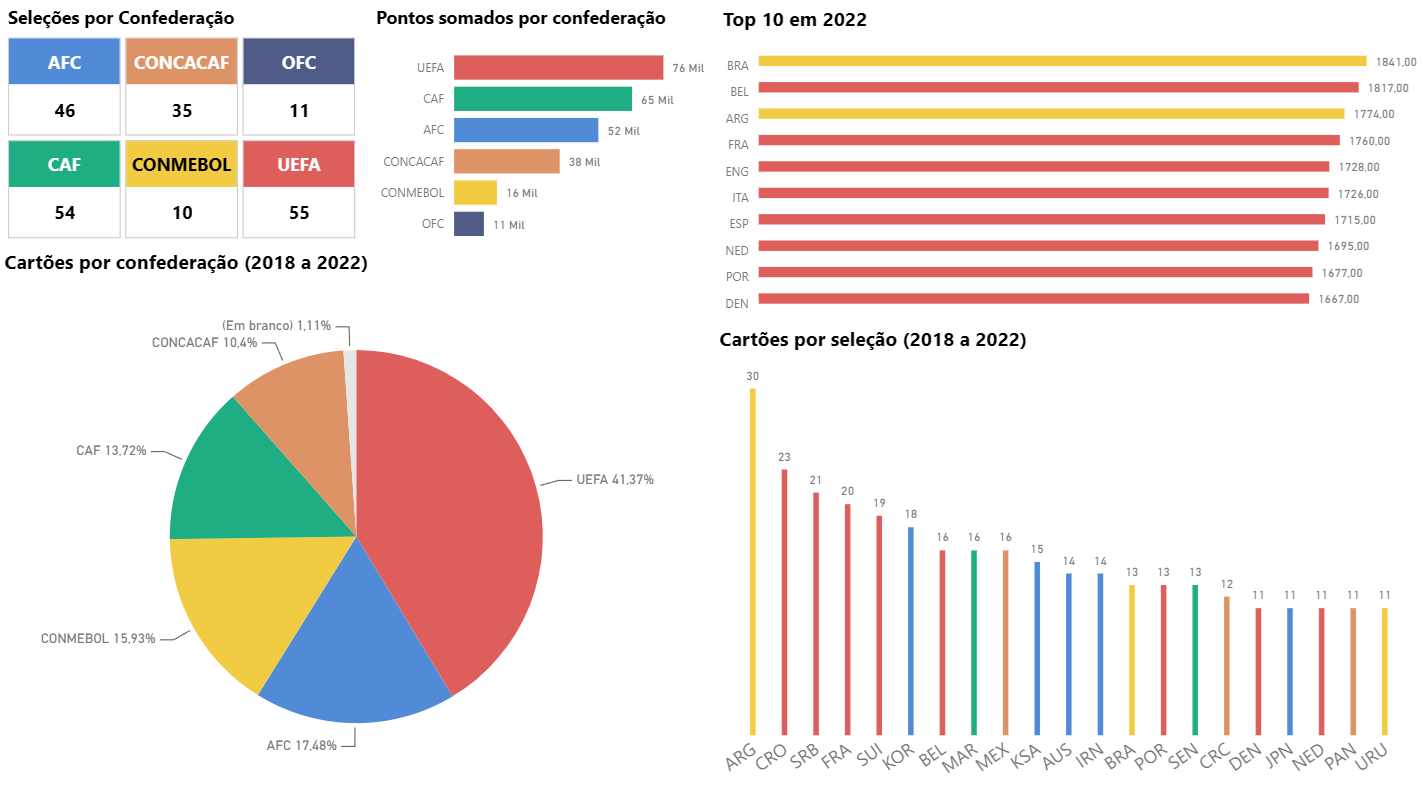

The dashboard page shown, as its layout file describes it:
{"tool":"powerbi","page":{"name":"Cartões x Confederações","canvas":[1280,720],"ordinal":2},"visuals":[{"type":"pieChart","title":"Cartões por confederação (2018 a 2022)","fields":{"Category":["ranking_2022.association"],"Y":["Sum(matches_simple.total_cards)"]},"box":[0,225.8,640,493.9],"z":0},{"type":"cardVisual","title":"Seleções por Confederação","fields":{"Rows":["ranking_2022.association"],"Data":["CountNonNull(ranking_2022.team)"]},"box":[0,0,330,225.9],"z":1000},{"type":"clusteredBarChart","title":"Top 10 em 2022","fields":{"Category":["ranking_2022.team_code"],"Series":["ranking_2022.association"],"Y":["Max(ranking_2022.points_decimal)"]},"box":[640.3,0,639.4,294.6],"z":2000},{"type":"clusteredColumnChart","title":"Cartões por seleção (2018 a 2022)","fields":{"Category":["ranking_2022.team_code"],"Y":["Sum(matches_simple.total_cards)"],"Series":["ranking_2022.association"]},"box":[640.3,294.6,639.4,425.4],"z":3000},{"type":"clusteredBarChart","title":"Pontos somados por confederação","fields":{"Category":["ranking_2022.association"],"Y":["Sum(ranking_2022.points_decimal)"]},"box":[329.6,0,310.4,226.8],"z":4000}]}

Visuals, with their boxes in screenshot pixels (x1, y1, x2, y2), scaled from the page's 1280x720 canvas onto the 1423x793 screenshot:
"Cartões por confederação (2018 a 2022)" pieChart: <box>0,249,712,792</box>
"Seleções por Confederação" cardVisual: <box>0,0,367,249</box>
"Top 10 em 2022" clusteredBarChart: <box>712,0,1422,324</box>
"Cartões por seleção (2018 a 2022)" clusteredColumnChart: <box>712,324,1422,792</box>
"Pontos somados por confederação" clusteredBarChart: <box>366,0,712,250</box>
